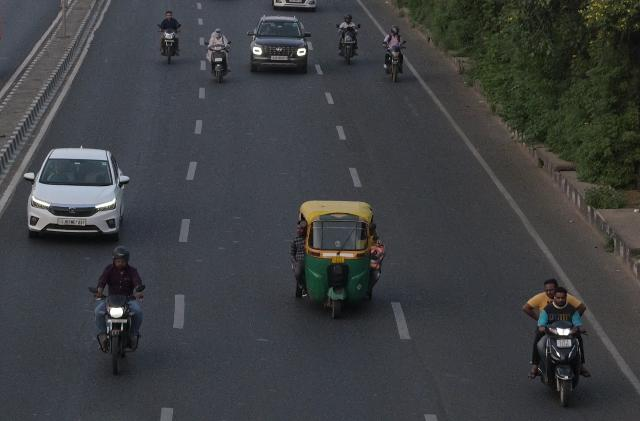With Helmet: (108, 245, 132, 270), (389, 24, 401, 36), (343, 14, 352, 24)
Without Helmet: (552, 284, 570, 306), (542, 278, 558, 294), (214, 27, 222, 38), (165, 11, 172, 21)
